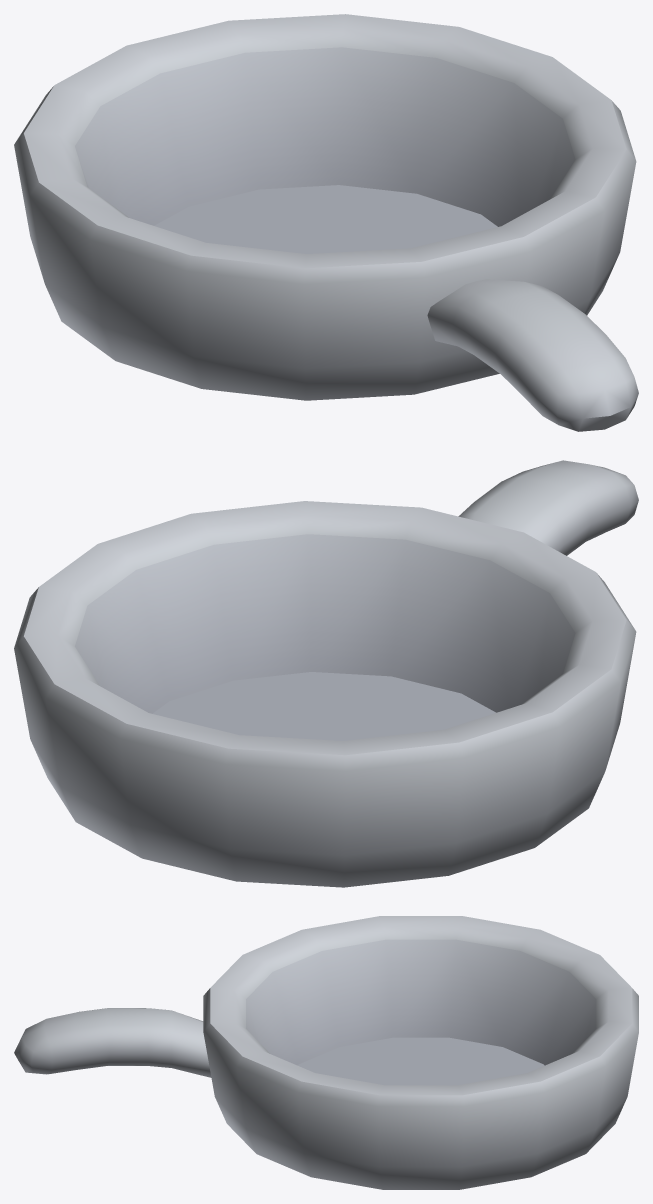
File: Pan.glb
3 renders of one model, top to bottom at view 1: azimuth 30°, elevation 25°; view 2: azimuth 150°, elevation 25°; view 3: azimuth 270°, elevation 25°, orthographic. The views are drawn at different scales.
Visible parts, largest first — view 1: pan; view 2: pan; view 3: pan.
Part boxes in pixels (x1,y1,x2,y2): pan: (14,14,638,431); pan: (14,460,638,887); pan: (14,916,638,1189).
Bounding box in the file's own units: 0.7 × 0.2 × 1.
Materials: 1 (1 with a texture image).
